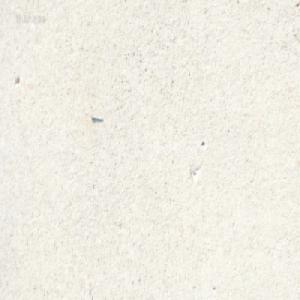Nail: (90, 113, 103, 121)
